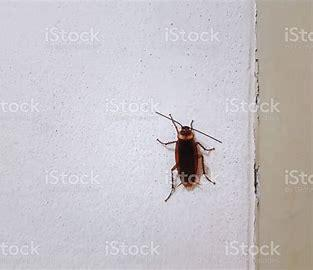cockroach: (131, 102, 238, 214)
